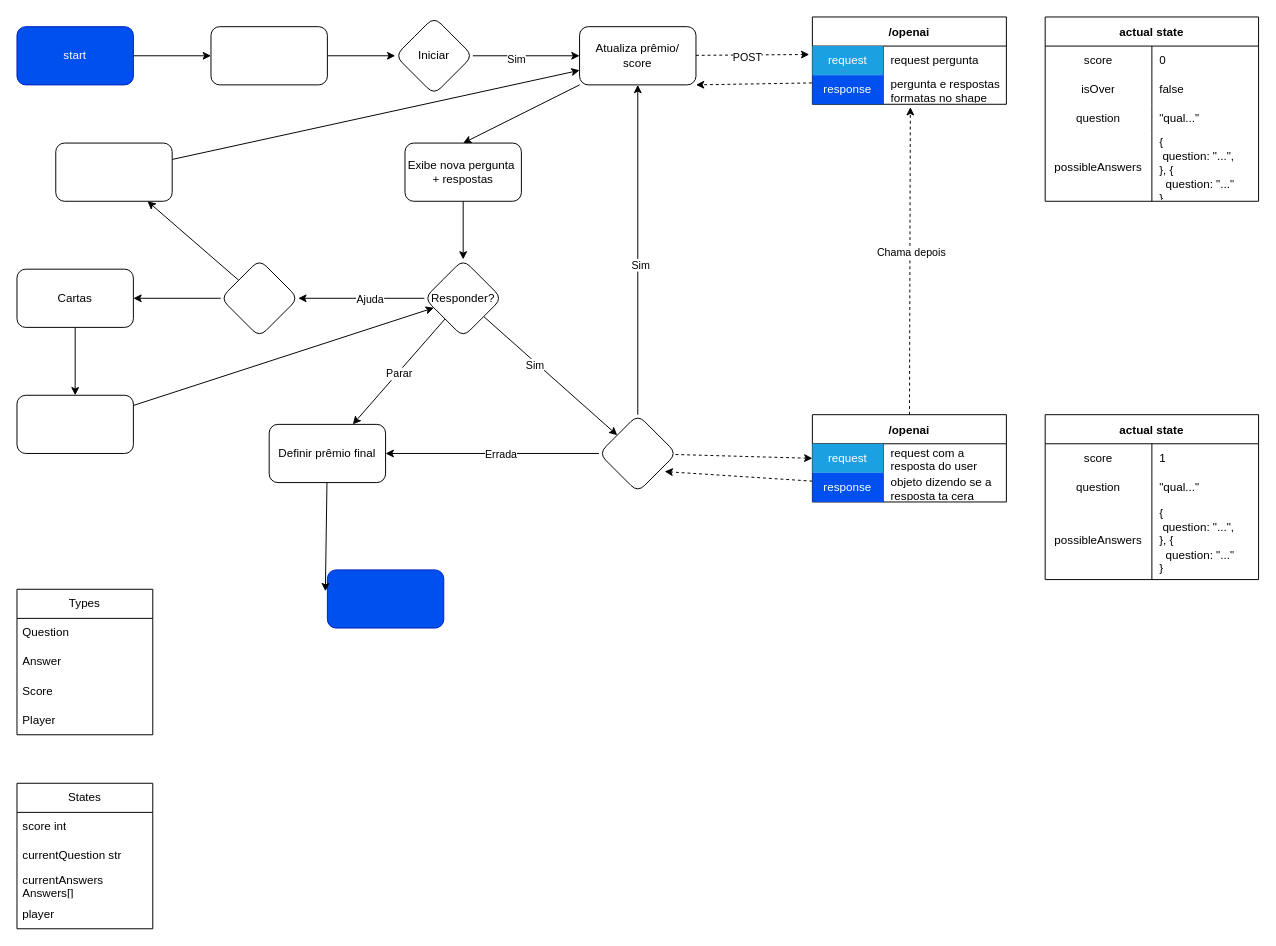
Image size: 1276x946. Some labels were removed from this diagram. The centre of each missing label's shape, as x and y in pixels:
"Game over" belongs at (x=385, y=598).
"home do jogo" belongs at (x=268, y=55).
"Pular" belongs at (x=113, y=171).
"Qual ajuda?" belongs at (x=259, y=298).
"Random de 0 a 3 e atualiza respostas" belongs at (x=74, y=423).
"Resposta Correta?" belongs at (x=637, y=453).
